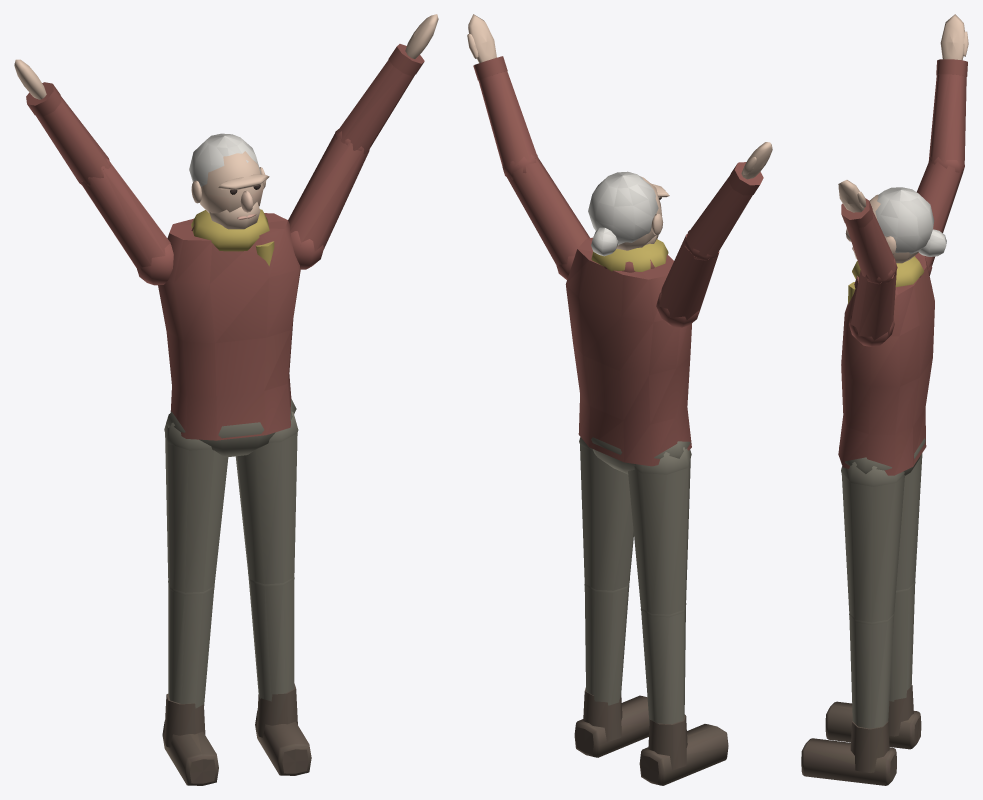
The model's file is crowd_cheer_a_b.glb.
3 views of the same model, side by side, from view 1: azimuth 30°, elevation 25°; view 2: azimuth 150°, elevation 25°; view 3: azimuth 270°, elevation 25° (orthographic). The views are drawn at different scales.
Visible parts, largest first — view 1: body; view 2: body; view 3: body.
Part boxes in pixels (box(x1,y1,x2,y2)): body: box(14, 14, 438, 785); body: box(467, 14, 772, 785); body: box(801, 14, 968, 785).
Size of the model in its own units: 1.05 by 1.94 by 0.4416.
